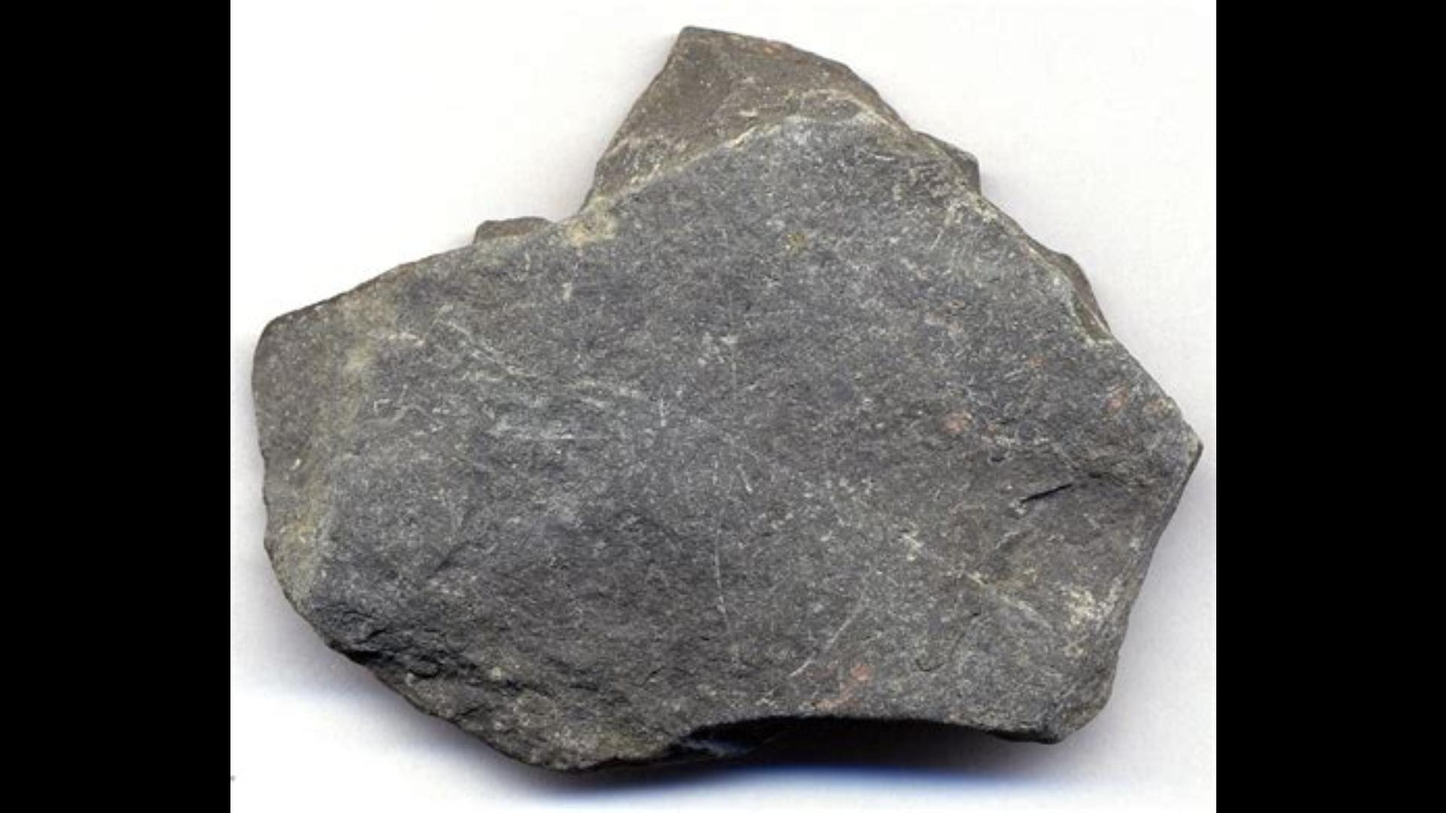rock: (263, 35, 1197, 767)
